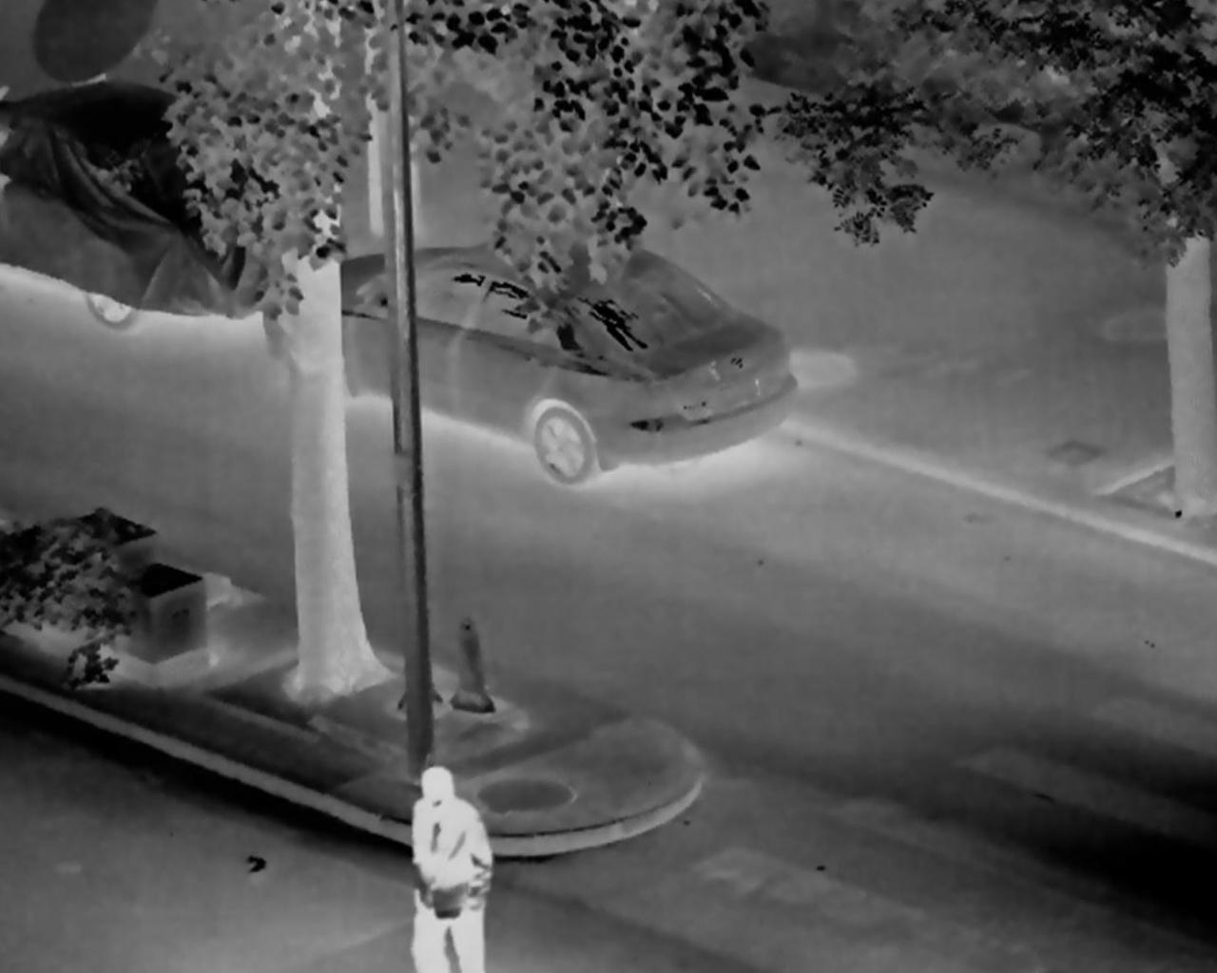person: (408, 765, 486, 973)
